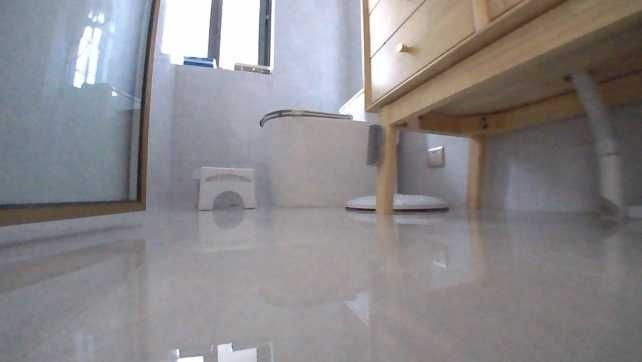chair_base: (342, 166, 450, 213)
plastic_stool: (190, 163, 257, 211)
toilet: (258, 87, 396, 208)
